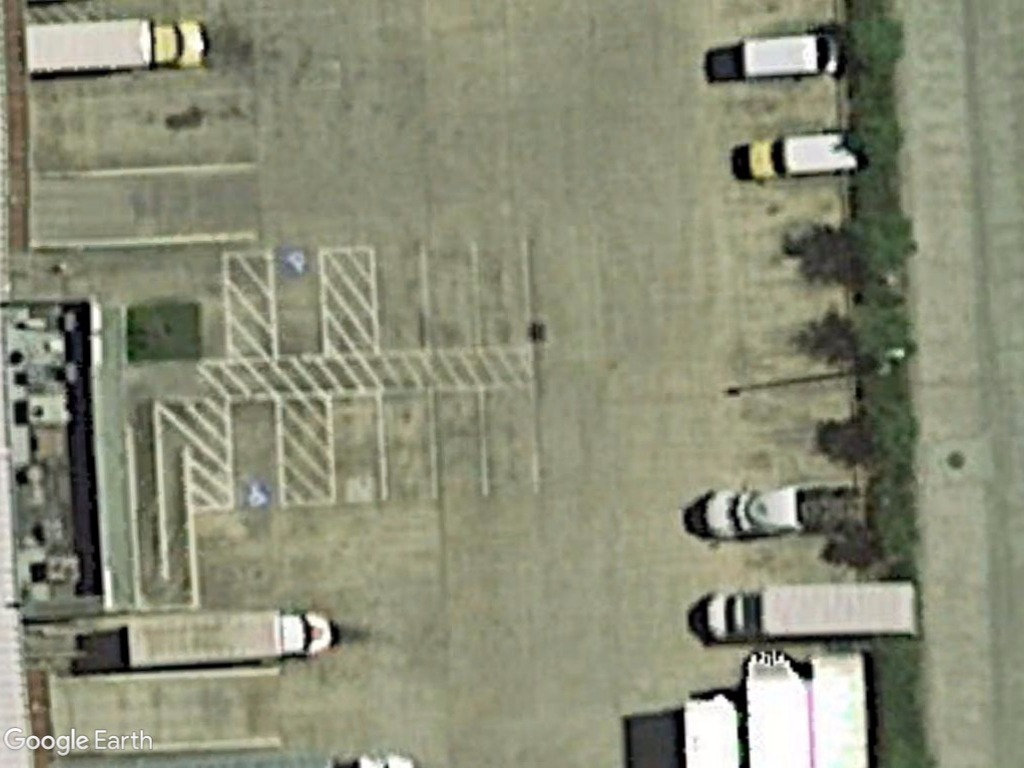truck: (701, 576, 923, 651), (123, 607, 338, 671), (19, 15, 210, 81)
van: (743, 124, 867, 183), (732, 24, 845, 86)
